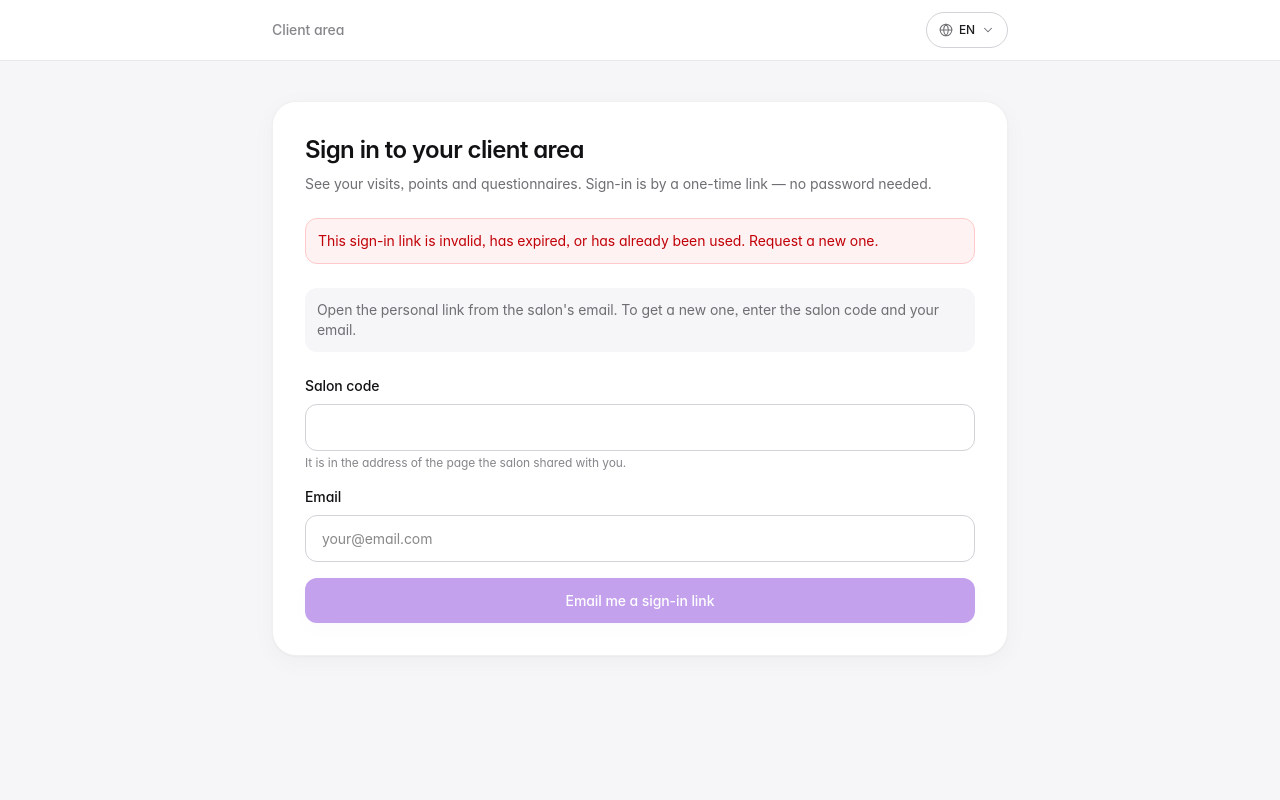
client portal › reports an expired link and asks for a new one without revealing the account
Expected: the text "invalid, has expired, or has already been used" is shown, [318,232,878,249]
In the field labelled "Salon code": (640, 428) [305,404,975,451], type "portal-salon"
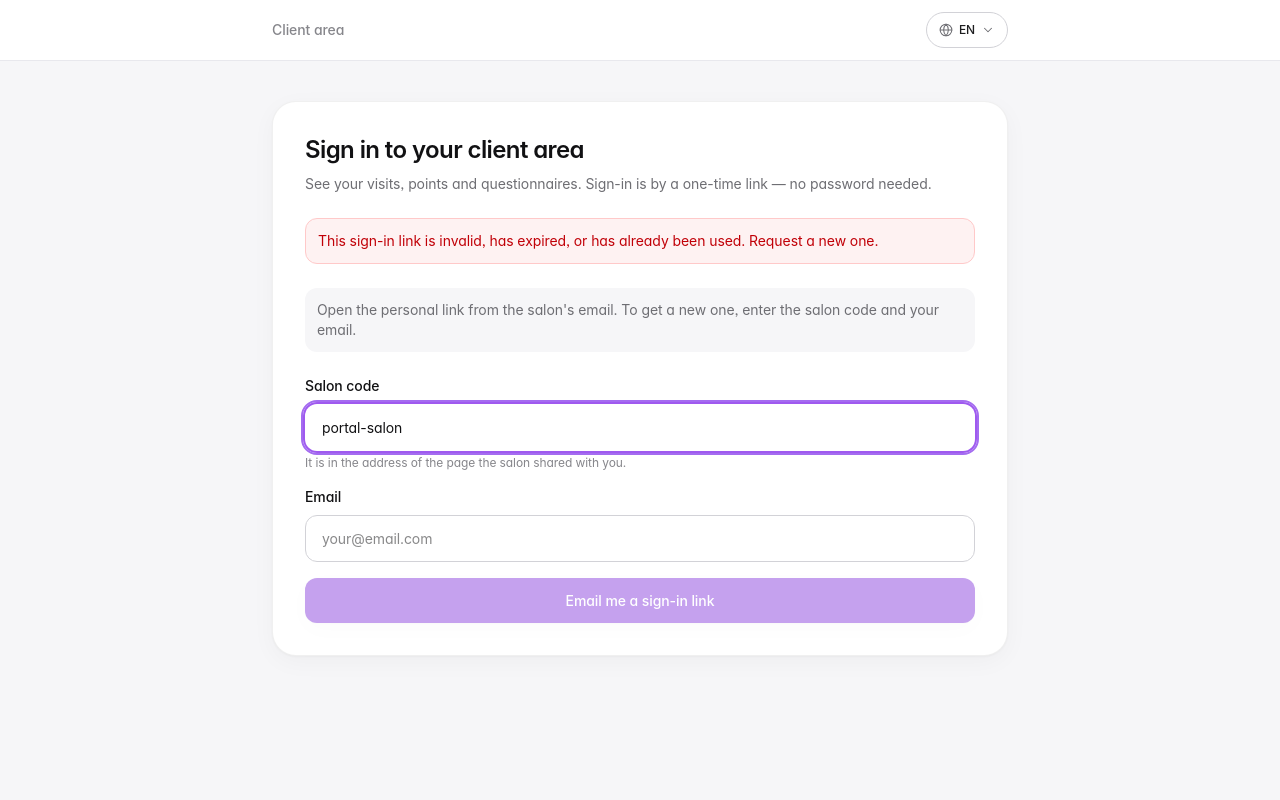
In the field labelled "Email": (640, 538) [305,515,975,562], type "nora@example.com"
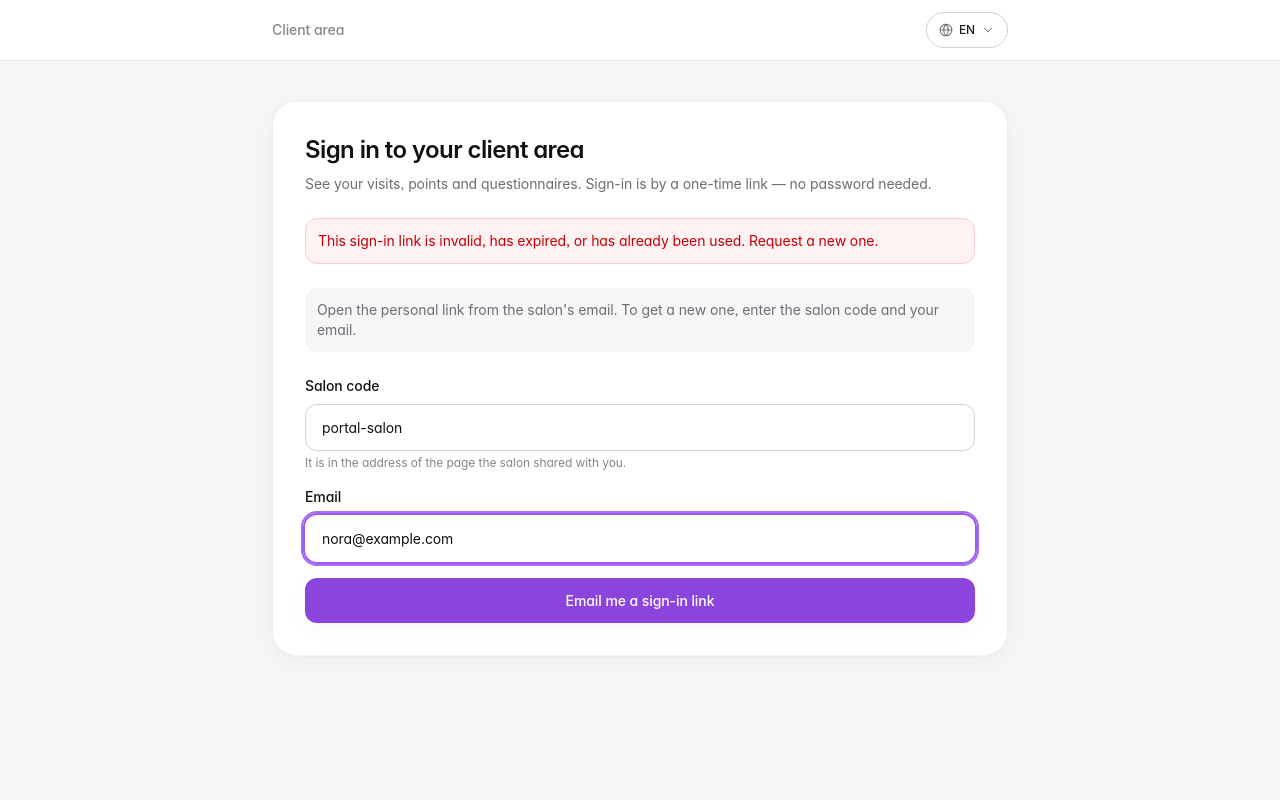
Click the button "Email me a sign-in link": (640, 600) [305,578,975,623]
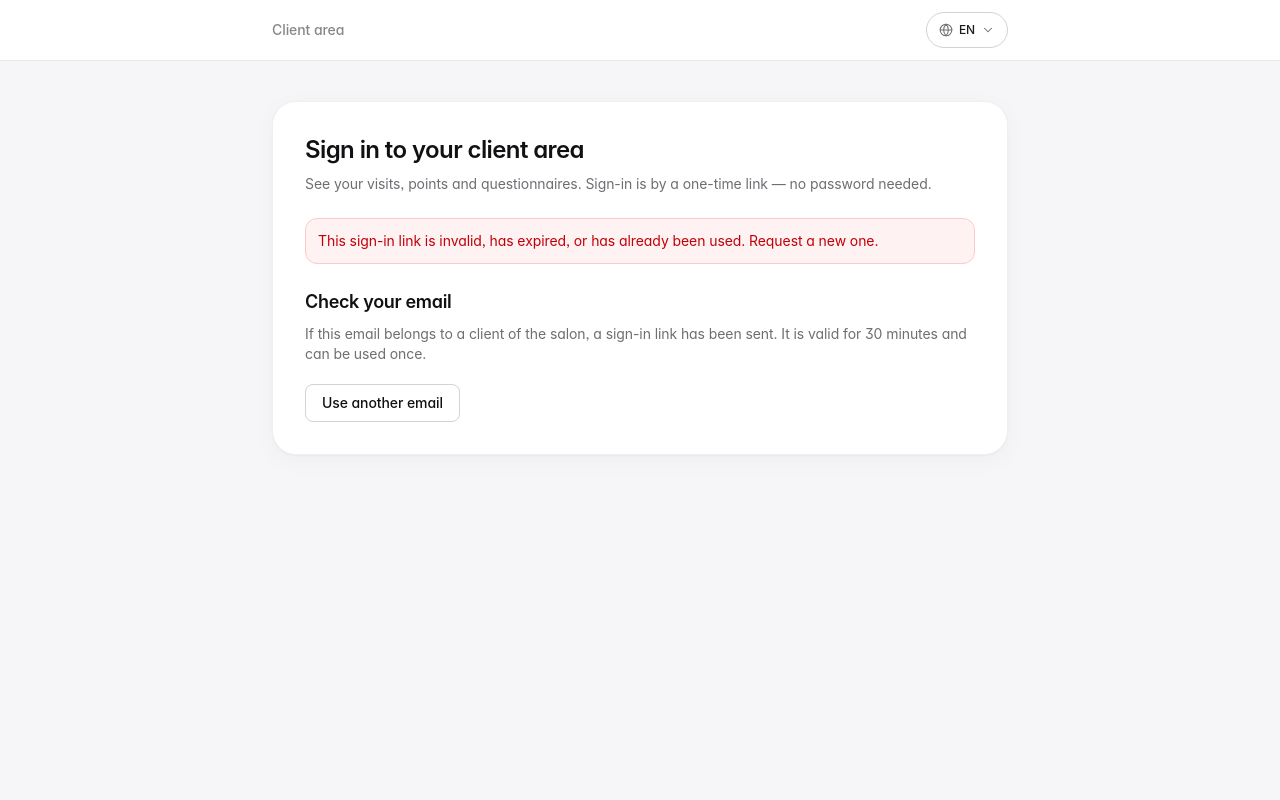
Expected: the heading "Check your email" is shown, [305,291,451,312]
